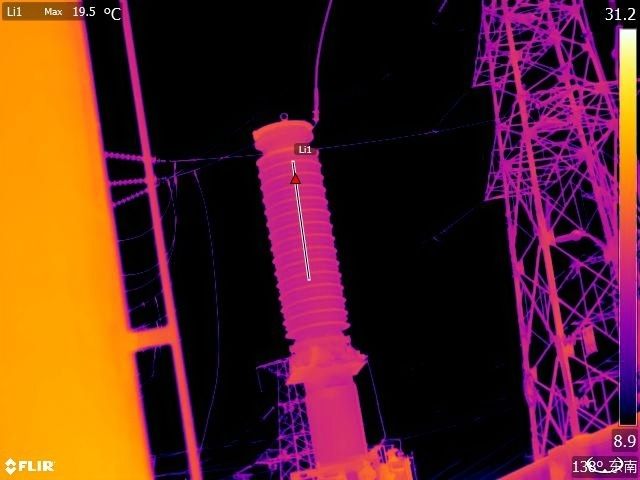insulator: (105, 146, 163, 167), (109, 186, 149, 210), (102, 173, 161, 189)
potential transformer: (246, 110, 379, 394)
